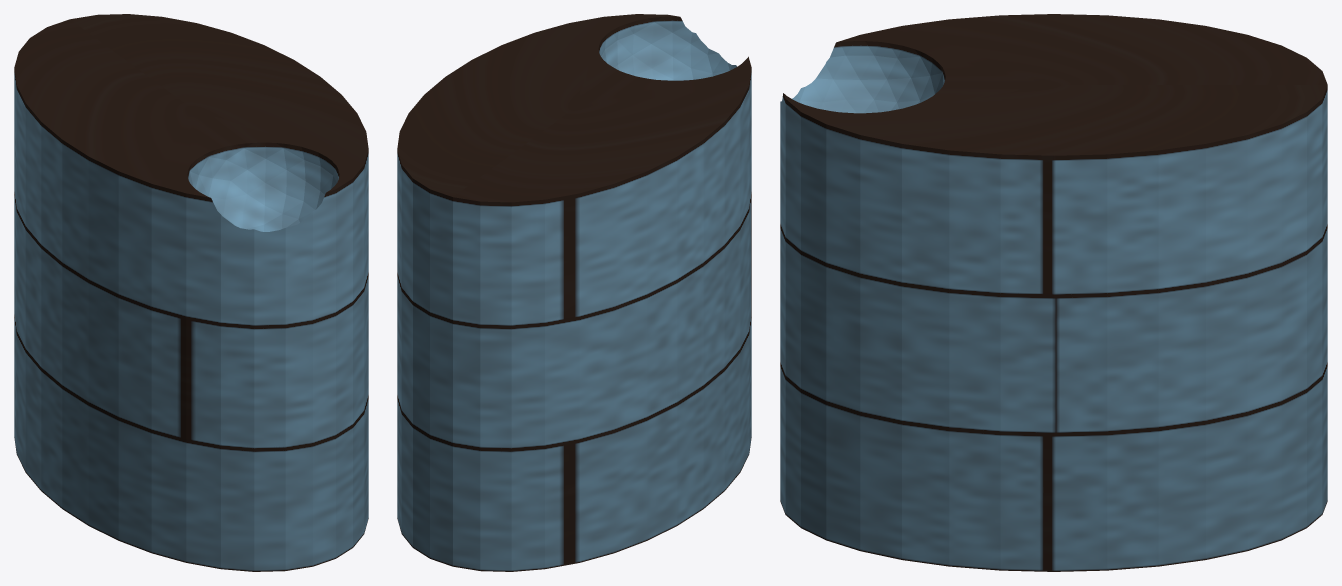
3 views of the same model, side by side, from view 1: azimuth 30°, elevation 25°; view 2: azimuth 150°, elevation 25°; view 3: azimuth 270°, elevation 25° (orthographic). The views are drawn at different scales.
Parts seen in each view (by area): view 1: geometry_0; view 2: geometry_0; view 3: geometry_0.
Part boxes in pixels (x1=…): geometry_0: x1=14, y1=14, x2=368, y2=571; geometry_0: x1=397, y1=14, x2=751, y2=571; geometry_0: x1=780, y1=14, x2=1327, y2=571.
Size of the model in its own units: 1.3 by 1.78 by 2.13.
Materials: 1 (1 with a texture image).
